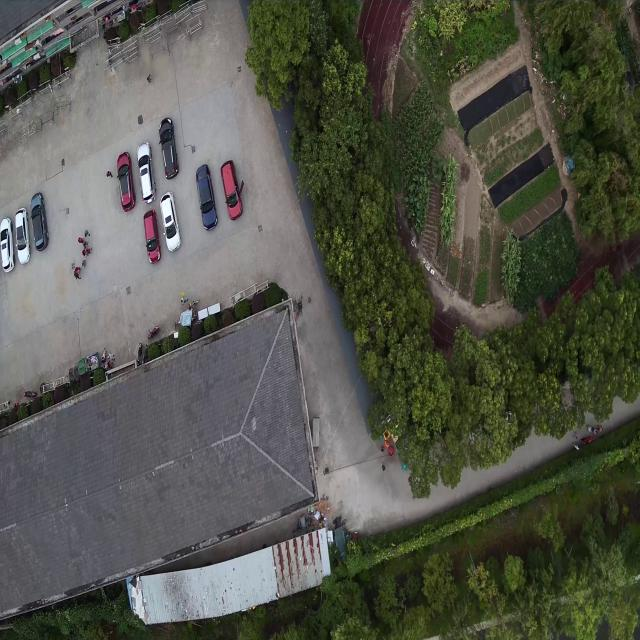UAV: (245, 413, 262, 437)
